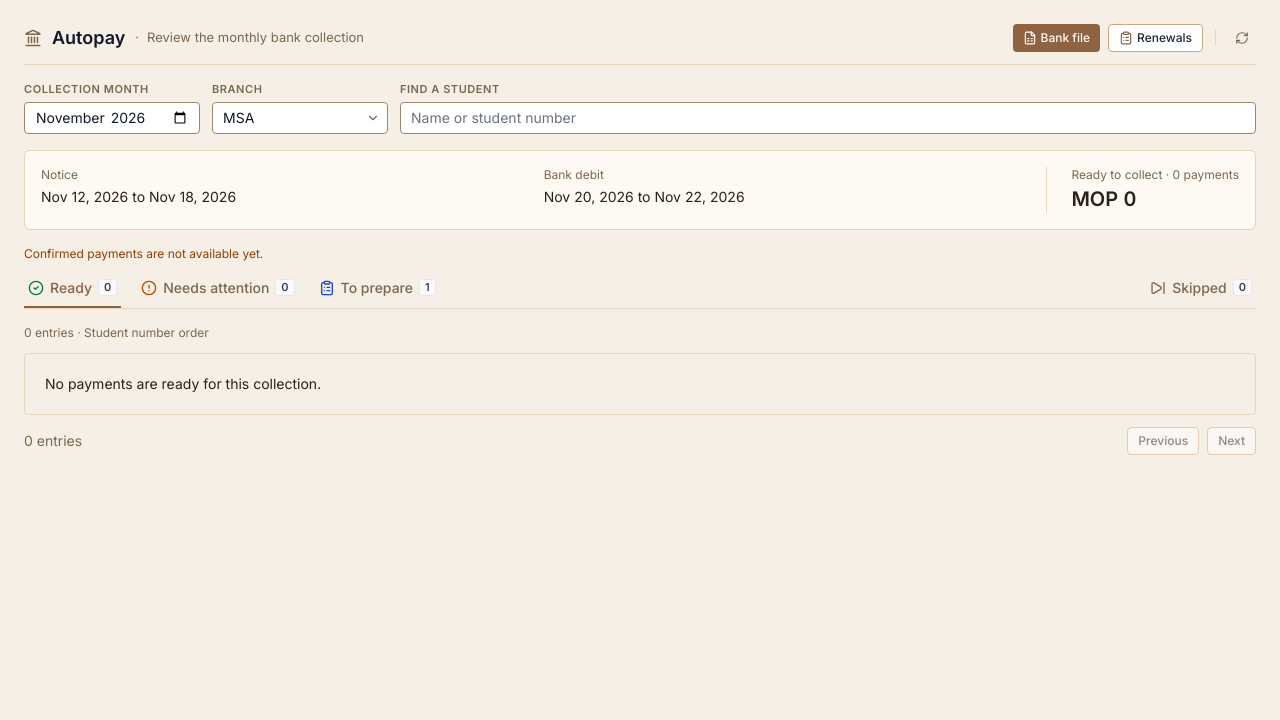
Test: autopay collection review › keeps saved and projected preparation estimates out of the ready amount
Expected: the text "Confirmed payments are not available yet." is shown, x1=24 y1=246 x2=263 y2=260
Click the tab "To prepare 1" at (377, 292), box x1=315 y1=278 x2=440 y2=308
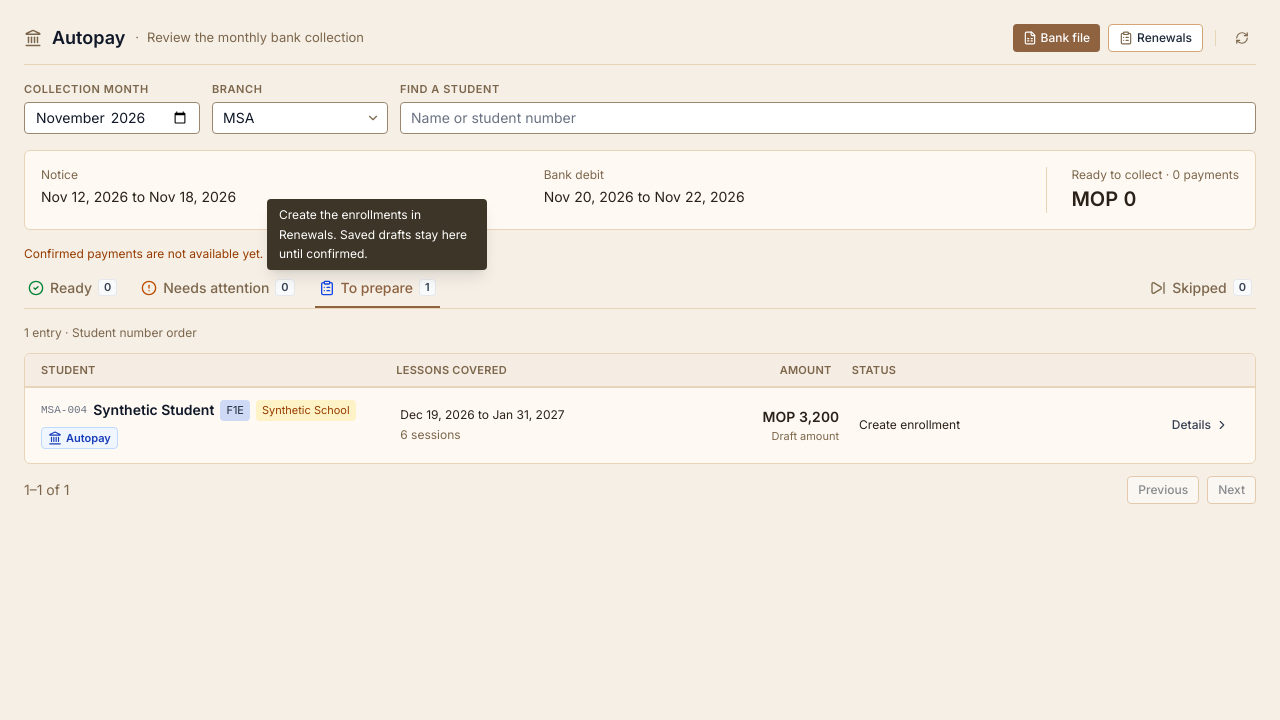
Expected: the text "MOP 0" is shown, x1=1071 y1=186 x2=1136 y2=210
Expected: the text "Draft amount" is shown, x1=772 y1=428 x2=839 y2=442
Click the button with aria-label "Details for Synthetic Student" at (1200, 425), box x1=1162 y1=411 x2=1239 y2=439
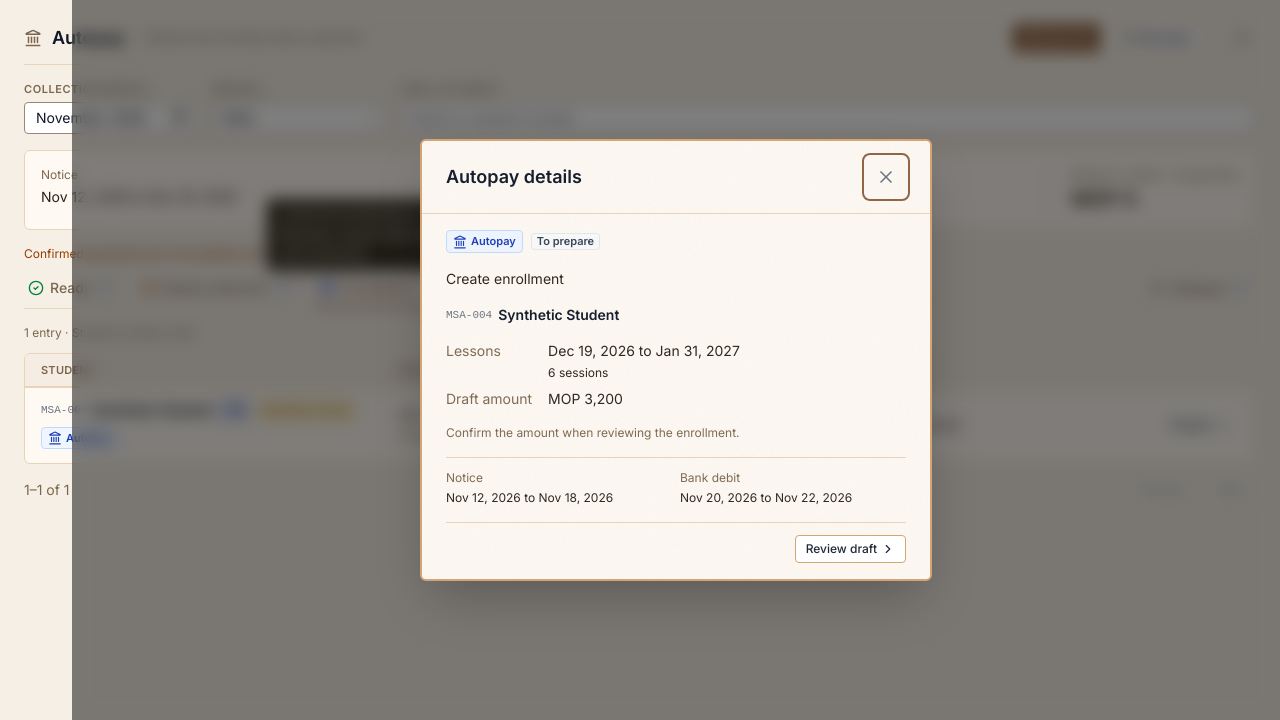
Expected: the text "Confirm the amount when reviewing the enrollment." is shown, x1=446 y1=425 x2=740 y2=440
